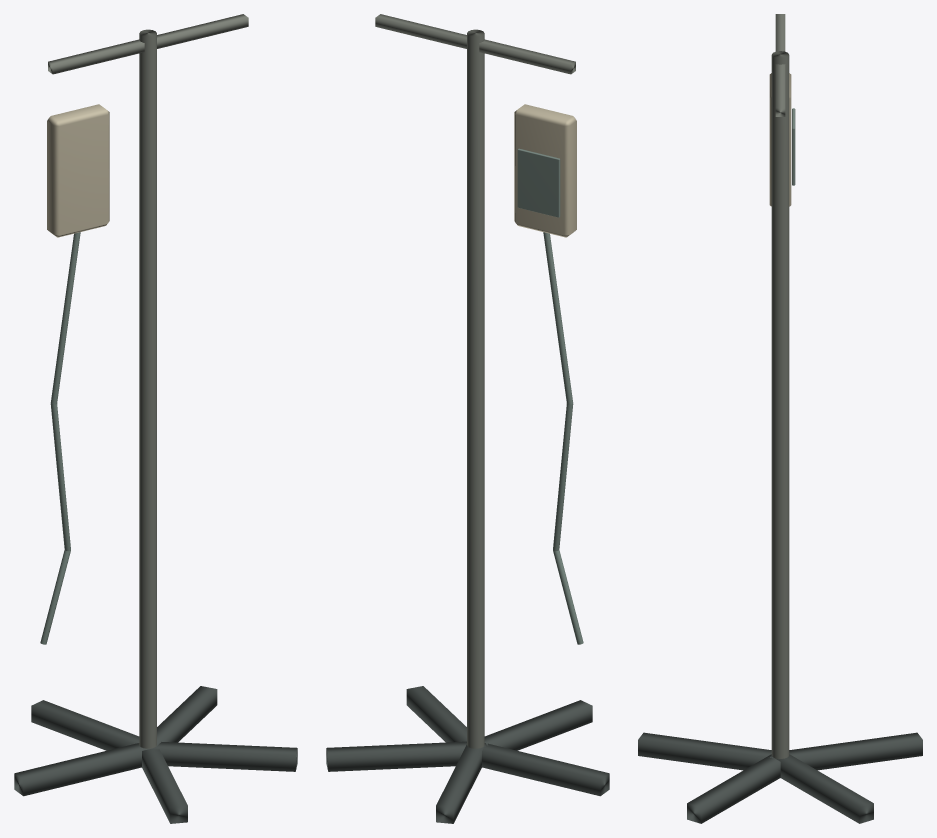
Rendered from IVStand62.fbx.
3 views of the same model, side by side, from view 1: azimuth 30°, elevation 25°; view 2: azimuth 150°, elevation 25°; view 3: azimuth 270°, elevation 25° (orthographic).
Parts seen in each view (by area): view 1: IVStand62; view 2: IVStand62; view 3: IVStand62.
Boxes of the visible parts, <box> form: IVStand62: <box>14,14,297,823</box>; IVStand62: <box>326,14,609,823</box>; IVStand62: <box>638,14,922,823</box>.
Size of the model in its own units: 68.26 by 199 by 71.77.
